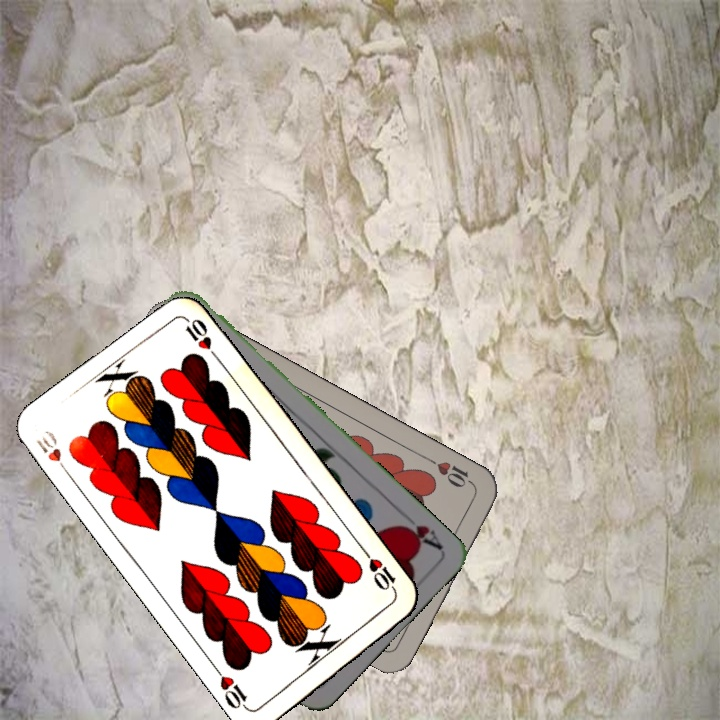H10: (32, 426, 74, 480), (359, 546, 400, 597), (424, 454, 478, 490)
HA: (393, 507, 445, 552)
